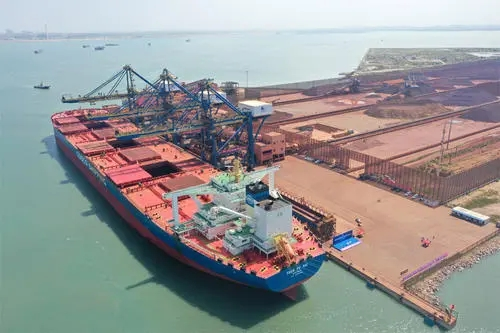Cargoship: (47, 69, 333, 300)
